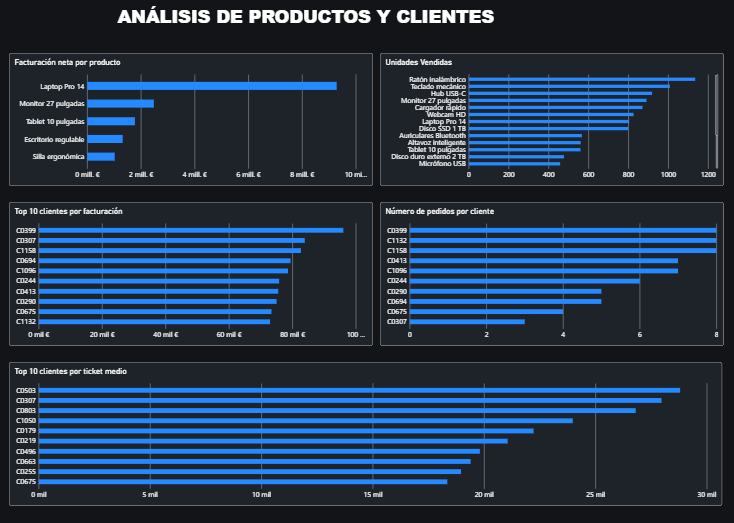

The dashboard page shown, as its layout file describes it:
{"tool":"powerbi","page":{"name":"Análisis de producto y cliente","canvas":[3840,2160],"ordinal":1},"visuals":[{"type":"textbox","box":[209.1,21.2,1363.6,97],"z":3000},{"type":"clusteredBarChart","title":"Facturación neta por producto","fields":{"Category":["products.product_name"],"Y":["customers.Facturación neta"]},"box":[36.4,169.7,1103,403],"z":4000},{"type":"clusteredBarChart","title":"Unidades Vendidas","fields":{"Category":["products.product_name"],"Y":["order_items.Unidades Vendidas"]},"box":[1160.6,169.7,1042.4,403],"z":5000},{"type":"clusteredBarChart","title":"Top 10 clientes por facturación","fields":{"Category":["customers.customer_id"],"Y":["customers.Facturación neta"]},"box":[36.4,621.2,1103,436.4],"z":6000},{"type":"clusteredBarChart","title":"Número de pedidos por cliente","fields":{"Category":["customers.customer_id"],"Y":["Count(orders.order_id)"]},"box":[1160.6,621.2,1042.4,436.4],"z":6001},{"type":"clusteredBarChart","title":"Top 10 clientes por ticket medio","fields":{"Category":["customers.customer_id"],"Y":["orders.Ticket medio por cliente"]},"box":[36.4,1106.1,2160.6,436.4],"z":6002}]}

Visuals, with their boxes on the page's 3840x2160 design canvas (x1, y1, x2, y2). These are canvas units, not pixel positions in the 734x523 screenshot, which may show the page scaled, cropped or inside an application window:
textbox: locate(209, 21, 1573, 118)
"Facturación neta por producto" clusteredBarChart: locate(36, 170, 1139, 573)
"Unidades Vendidas" clusteredBarChart: locate(1161, 170, 2203, 573)
"Top 10 clientes por facturación" clusteredBarChart: locate(36, 621, 1139, 1058)
"Número de pedidos por cliente" clusteredBarChart: locate(1161, 621, 2203, 1058)
"Top 10 clientes por ticket medio" clusteredBarChart: locate(36, 1106, 2197, 1542)
